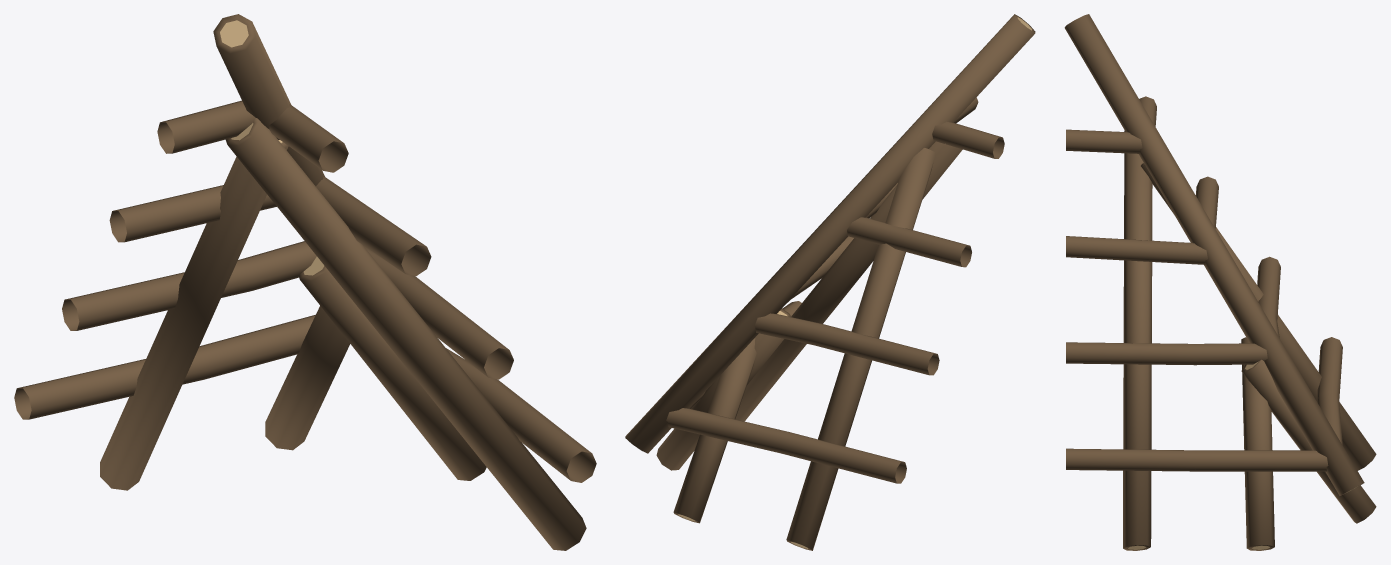
Rendered from rpgpp_ag_roof_support_01_6x5x3_corner_b.fbx.
The picture shows the model from 3 angles, left to right: view 1: azimuth 30°, elevation 25°; view 2: azimuth 150°, elevation 25°; view 3: azimuth 270°, elevation 25°; orthographic projection. The views are drawn at different scales.
Visible parts, largest first — view 1: rpgpp_ag_roof_support_01_6x5x3_corner_b; view 2: rpgpp_ag_roof_support_01_6x5x3_corner_b; view 3: rpgpp_ag_roof_support_01_6x5x3_corner_b.
Boxes of the visible parts, <box> form: rpgpp_ag_roof_support_01_6x5x3_corner_b: <box>14,14,596,550</box>; rpgpp_ag_roof_support_01_6x5x3_corner_b: <box>625,14,1035,550</box>; rpgpp_ag_roof_support_01_6x5x3_corner_b: <box>1064,14,1376,550</box>.
Size of the model in its own units: 3.48 by 5.28 by 3.53.
